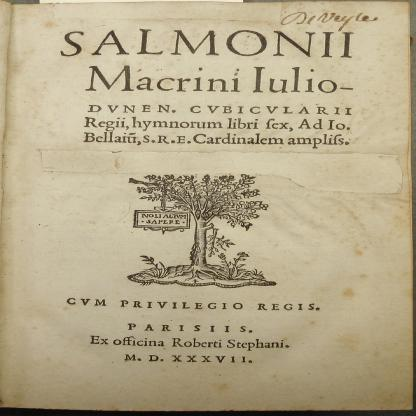book: (0, 0, 416, 409)
